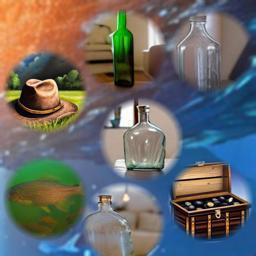not an animal: (9, 69, 78, 126), (174, 15, 226, 89), (117, 103, 168, 175), (82, 193, 138, 255), (106, 6, 141, 91)
treasure: (170, 161, 250, 240)
